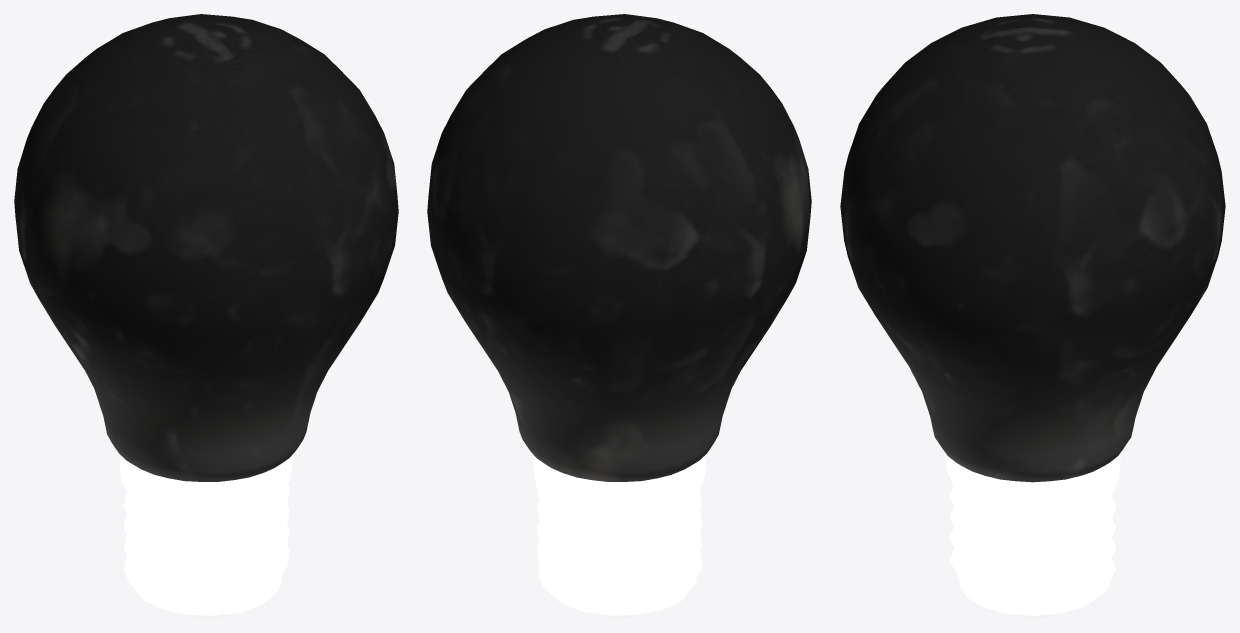
Rendered from lightbulb_01.gltf.
The picture shows the model from 3 angles, left to right: view 1: azimuth 30°, elevation 25°; view 2: azimuth 150°, elevation 25°; view 3: azimuth 270°, elevation 25°; orthographic projection.
Parts seen in each view (by area): view 1: lightbulb_01; view 2: lightbulb_01; view 3: lightbulb_01.
Boxes of the visible parts, x1=… form: lightbulb_01: x1=14, y1=14, x2=398, y2=618; lightbulb_01: x1=427, y1=14, x2=811, y2=618; lightbulb_01: x1=840, y1=14, x2=1225, y2=618.
Bounding box in the file's own units: 0.06 × 0.1003 × 0.06.
2 materials, 2 textured.
